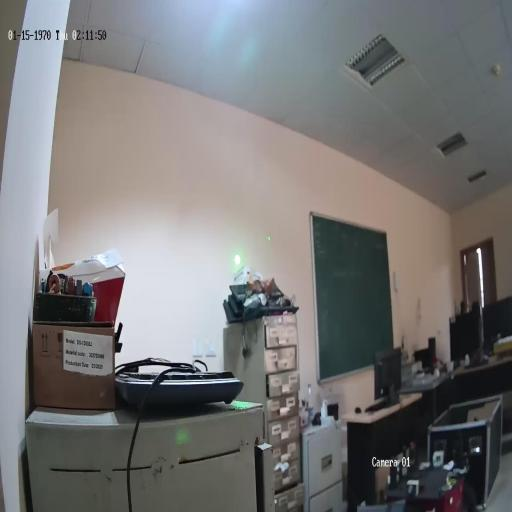laser: (232, 251, 241, 266)
